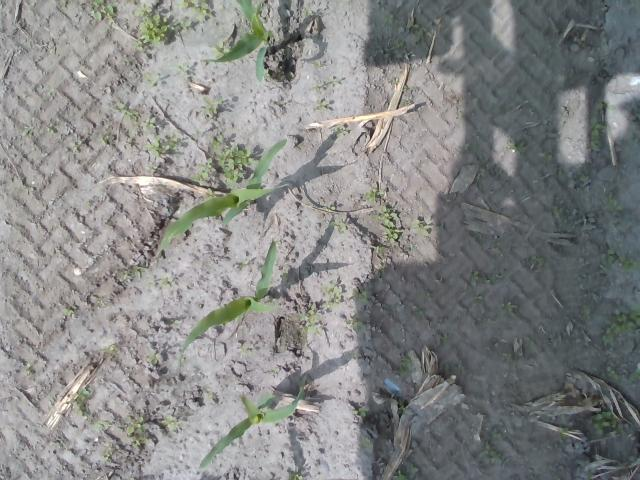Maize: (156, 140, 286, 252), (180, 238, 278, 356), (196, 382, 306, 474), (202, 0, 272, 81)
Weeds: (130, 0, 216, 54), (194, 135, 253, 185), (366, 186, 401, 243), (600, 304, 640, 346), (599, 239, 640, 273), (589, 98, 615, 151), (592, 409, 624, 438), (143, 132, 179, 154), (480, 428, 502, 464), (294, 303, 318, 334), (125, 415, 147, 446), (320, 283, 342, 310), (90, 0, 115, 21), (73, 388, 90, 418), (114, 100, 138, 120), (606, 192, 623, 218), (469, 268, 496, 284), (393, 463, 418, 480), (116, 267, 146, 280), (399, 352, 413, 378), (200, 97, 224, 111), (500, 300, 518, 318), (210, 40, 230, 56), (352, 286, 369, 304), (328, 219, 348, 233), (508, 140, 528, 154), (162, 414, 176, 431), (145, 73, 160, 88), (382, 8, 394, 26), (142, 164, 160, 176), (416, 25, 426, 44), (95, 419, 112, 430), (605, 363, 616, 380), (418, 223, 432, 236), (352, 320, 366, 332), (174, 62, 187, 74), (160, 277, 175, 287), (558, 425, 568, 440), (352, 408, 367, 418), (322, 204, 337, 214), (334, 124, 346, 136), (394, 38, 406, 50), (146, 116, 158, 128), (534, 255, 546, 267), (630, 370, 640, 384), (288, 472, 304, 480), (312, 82, 324, 92), (100, 136, 112, 146), (104, 344, 116, 354), (542, 150, 554, 160), (317, 99, 327, 110), (302, 7, 314, 16), (578, 174, 590, 182), (64, 308, 74, 316), (280, 271, 288, 281), (46, 127, 57, 134), (376, 246, 386, 253), (102, 453, 110, 461), (399, 405, 404, 410)
